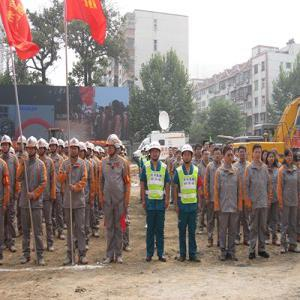none: (253, 144, 263, 163), (225, 148, 235, 166), (285, 148, 295, 166), (213, 147, 223, 164), (238, 146, 248, 162), (268, 152, 277, 168), (195, 144, 203, 158), (202, 149, 210, 163), (262, 150, 270, 163), (209, 142, 217, 154), (204, 140, 211, 151), (169, 147, 174, 157), (177, 151, 182, 160), (174, 147, 178, 157)
white: (27, 136, 40, 159), (107, 135, 120, 157), (182, 145, 195, 165), (150, 144, 162, 163), (2, 136, 13, 156), (70, 139, 80, 159), (38, 139, 48, 158), (50, 137, 60, 156), (19, 136, 28, 151), (58, 139, 66, 155), (80, 143, 87, 160), (87, 143, 92, 157)
